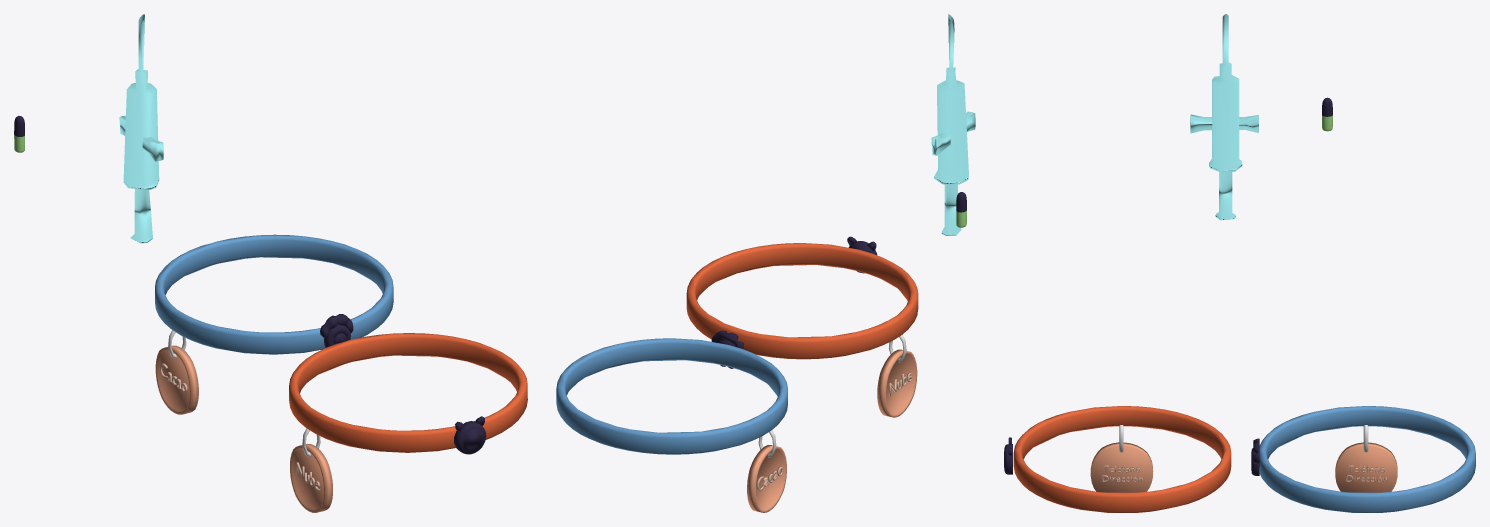
Rendered from rastreo.glb.
3 renders of one model, left to right at view 1: azimuth 30°, elevation 25°; view 2: azimuth 150°, elevation 25°; view 3: azimuth 270°, elevation 25°, orthographic. The views are drawn at different scales.
Visible parts, largest first — view 1: collar perro, collar gato, jeringa, placa cacao, placa nube, rastreador gato, rastreador perro; view 2: collar perro, collar gato, jeringa, placa nube, placa cacao; view 3: collar gato, collar perro, jeringa, placa cacao, placa nube.
Boxes of the visible parts, box(x1,y1,x2,y2) form: collar perro: box(155, 234, 393, 354); collar gato: box(289, 333, 527, 452); jeringa: box(119, 14, 163, 243); placa cacao: box(155, 330, 198, 414); placa nube: box(290, 428, 332, 512); rastreador gato: box(454, 416, 486, 454); rastreador perro: box(320, 314, 353, 347); collar perro: box(556, 338, 787, 454); collar gato: box(686, 243, 918, 359); jeringa: box(931, 14, 975, 235); placa nube: box(877, 335, 917, 417); placa cacao: box(747, 430, 786, 512); collar gato: box(1013, 406, 1231, 512); collar perro: box(1259, 406, 1475, 512); jeringa: box(1190, 14, 1258, 220); placa cacao: box(1335, 425, 1397, 492); placa nube: box(1090, 425, 1153, 492).
Size of the model in its own units: 1.8 by 2.15 by 2.1.
